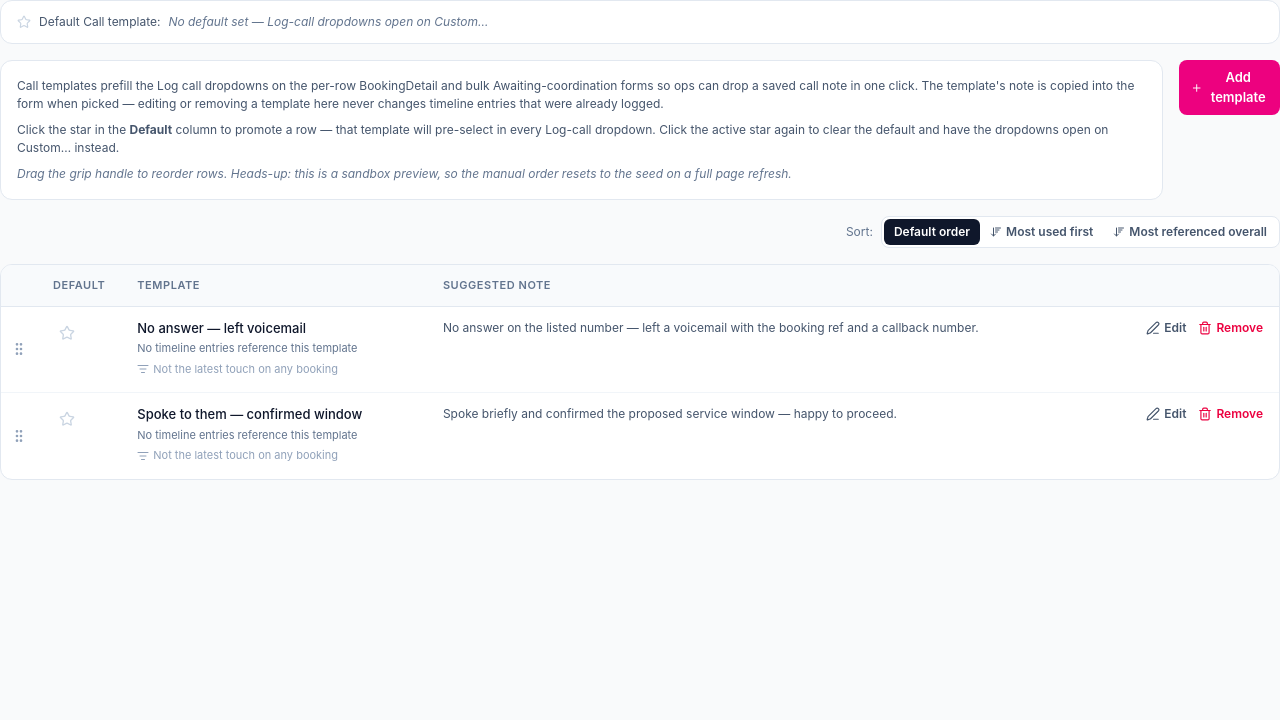
it: CallTemplatesView · CRUD › Edit → Save updates the row's fields in place (no duplicate row)
# Open the editor pre-filled with the first seeded template.
Click the button with test id "button-edit-call-template-call-tpl-seed-1".
click(1166, 328)  # box [1146, 318, 1186, 336]
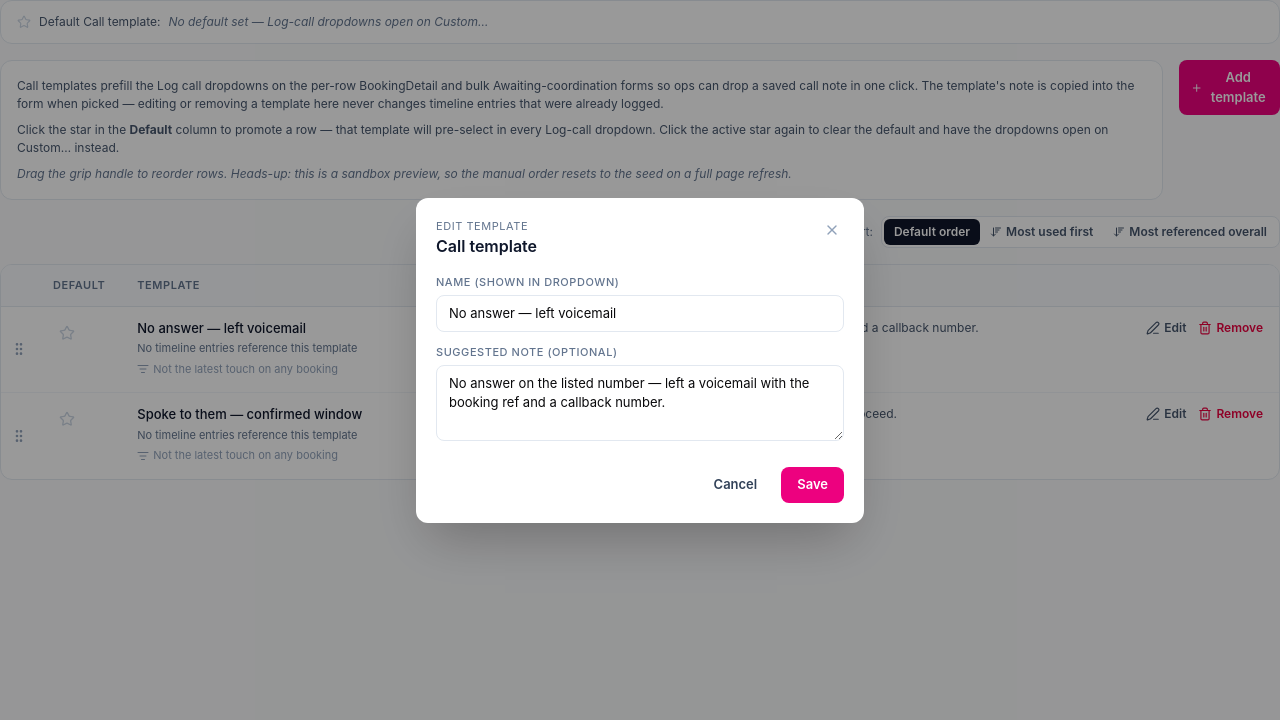
Expected: the field with test id "input-call-template-name" holds "No answer — left voicemail"
Expected: the text box with test id "input-call-template-note" holds "No answer on the listed number — left a voicemail with the booking ref and a callback number.", [436, 364, 844, 441]
# Edit both fields and save.
Replace the text in the field with test id "input-call-template-name" with "No answer — left voicemail (v2)" at (640, 313), box [436, 294, 844, 332]
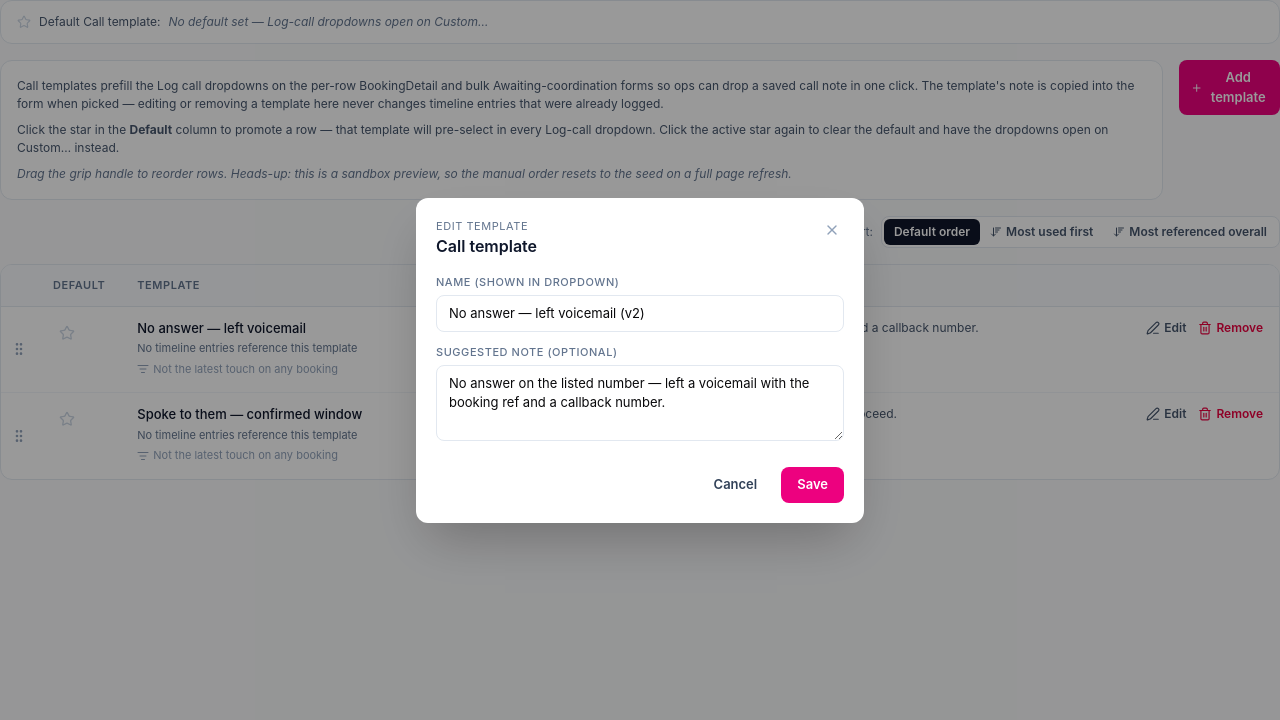
Replace the text in the text box with test id "input-call-template-note" with "Updated voicemail copy after legal review." at (640, 403), box [436, 364, 844, 441]
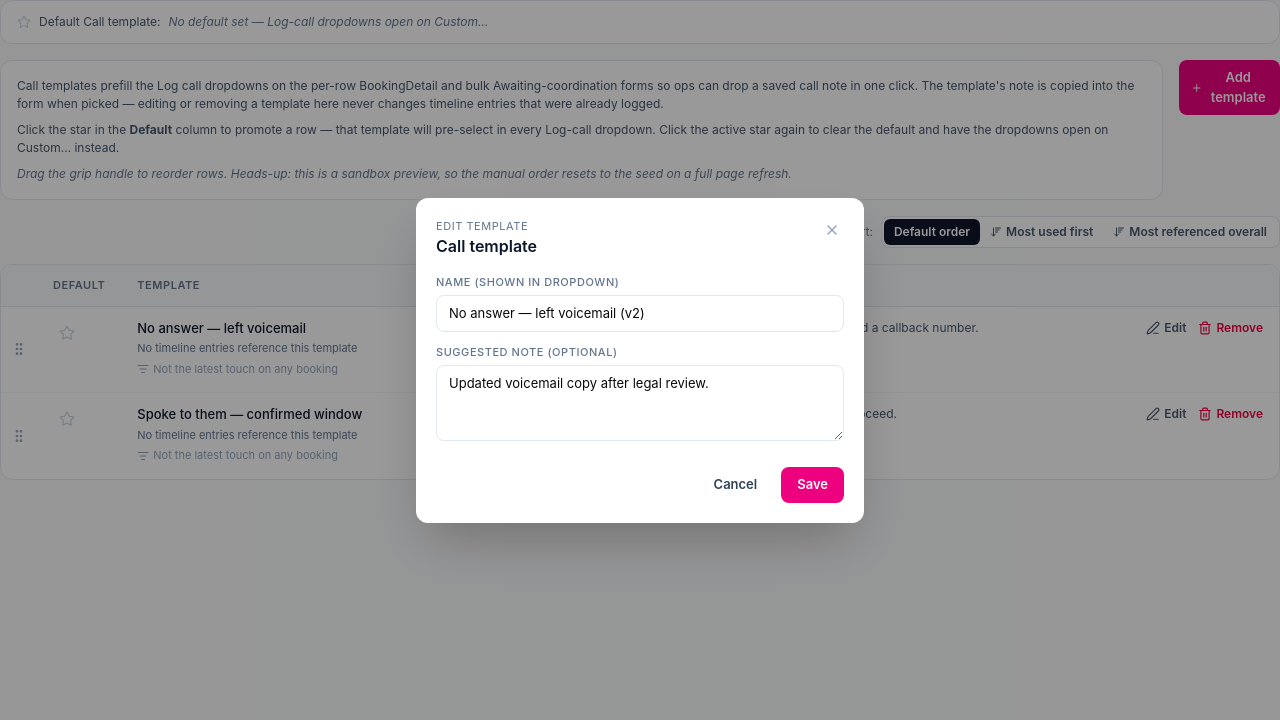
Click the button with test id "button-save-call-template".
click(813, 485)  # box [781, 467, 844, 502]
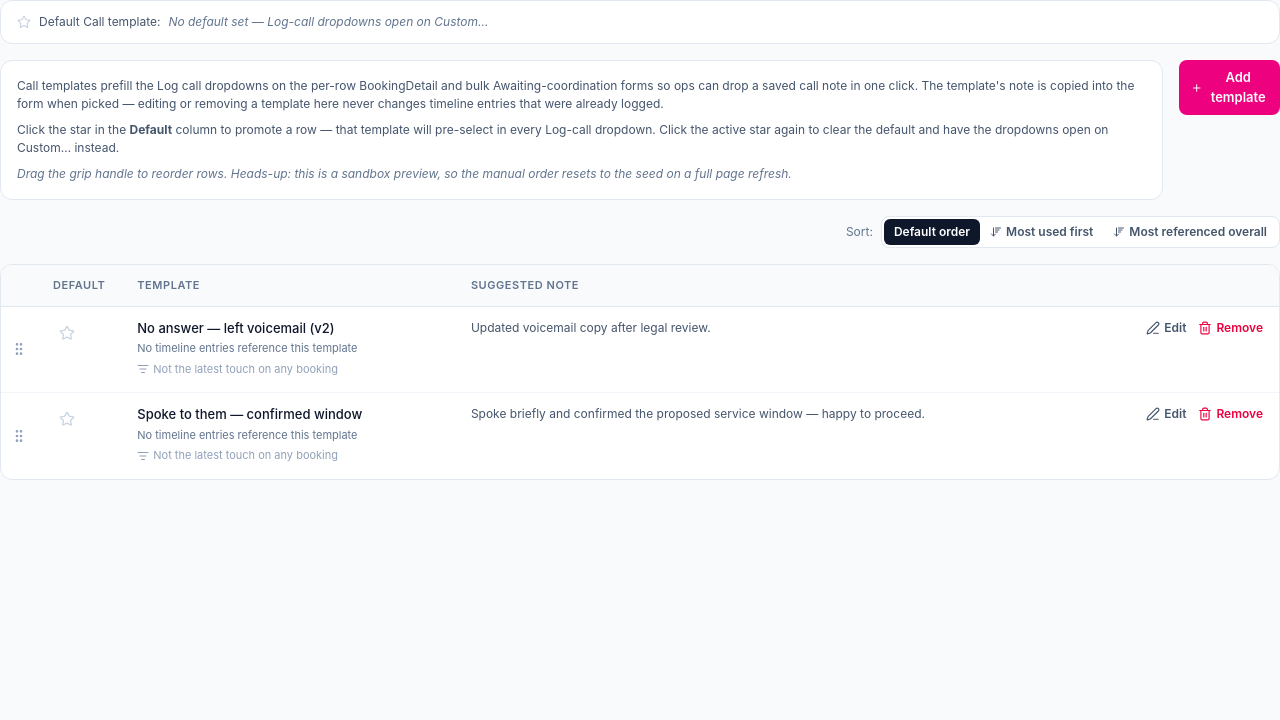
Expected: the element with test id "call-template-editor" is gone
Expected: the text "No answer — left voicemail (v2)" is shown, [137, 318, 335, 338]
Expected: the text "Updated voicemail copy after legal review." is shown, [471, 320, 711, 334]
